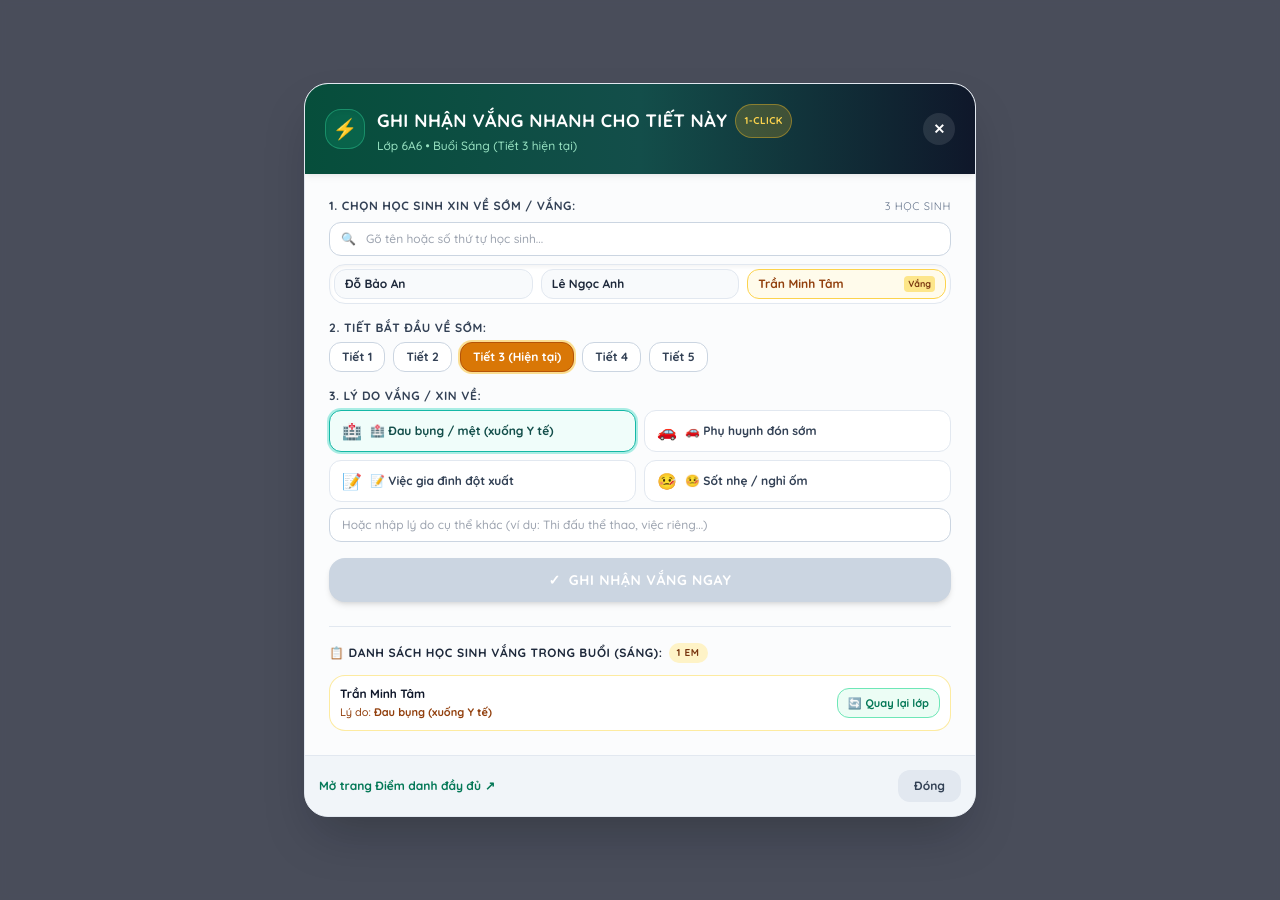
Test case: QuickAbsenceModal Component Tests › tải danh sách học sinh và cho phép tìm kiếm theo tên
Expected: the text "Đỗ Bảo An" is shown, [345,276,406,291]
In the field with placeholder "Gõ tên hoặc số thứ tự học sinh...": [640, 239] box [329,222,951,256], type "Ngọc Anh"
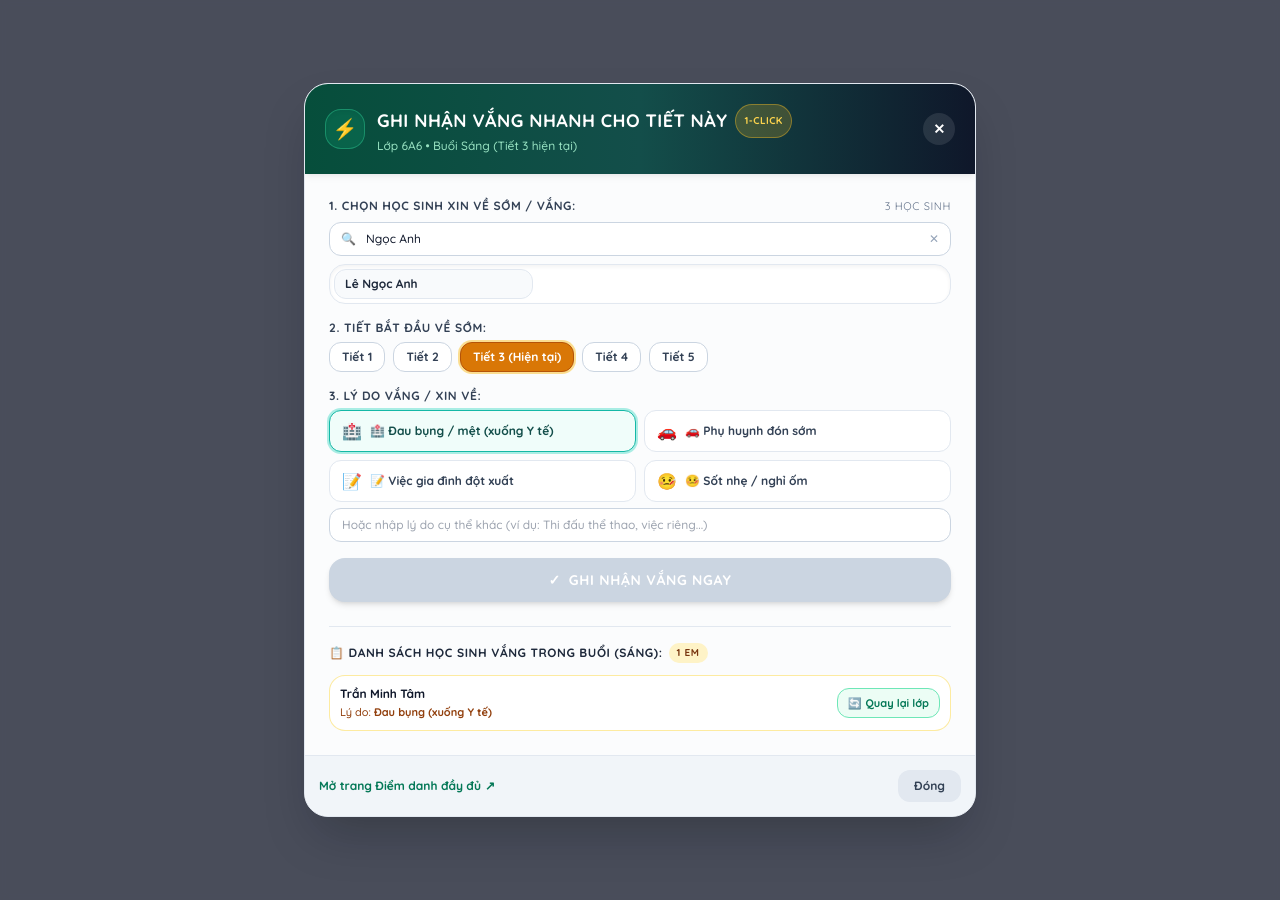
Expected: the text "Lê Ngọc Anh" is shown, [345,276,418,291]
Result: the button "Đỗ Bảo An" is gone
